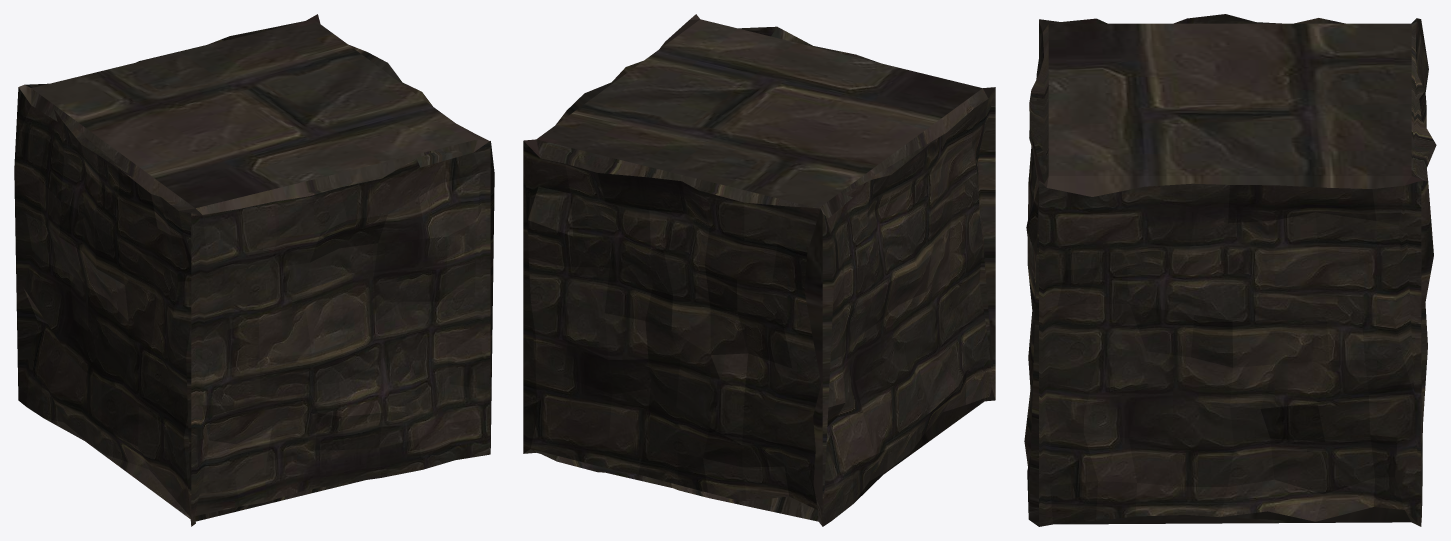
The model's file is Wall_v5.fbx.
3 views of the same model, side by side, from view 1: azimuth 30°, elevation 25°; view 2: azimuth 150°, elevation 25°; view 3: azimuth 270°, elevation 25° (orthographic). The views are drawn at different scales.
Visible parts, largest first — view 1: Cube; view 2: Cube; view 3: Cube.
Part boxes in pixels (left/top/right/bottom): Cube: left=14, top=14, right=494, bottom=526; Cube: left=523, top=14, right=995, bottom=526; Cube: left=1024, top=14, right=1436, bottom=526.
Bounding box in the file's own units: 215 × 205 × 216.
Materials: 1 (1 with a texture image).
